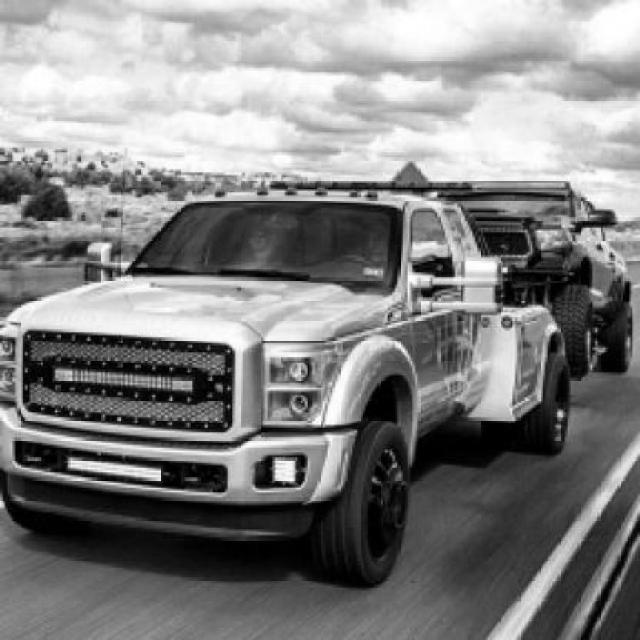Pickup: (413, 181, 631, 380)
Tow Truck: (0, 180, 571, 589)
